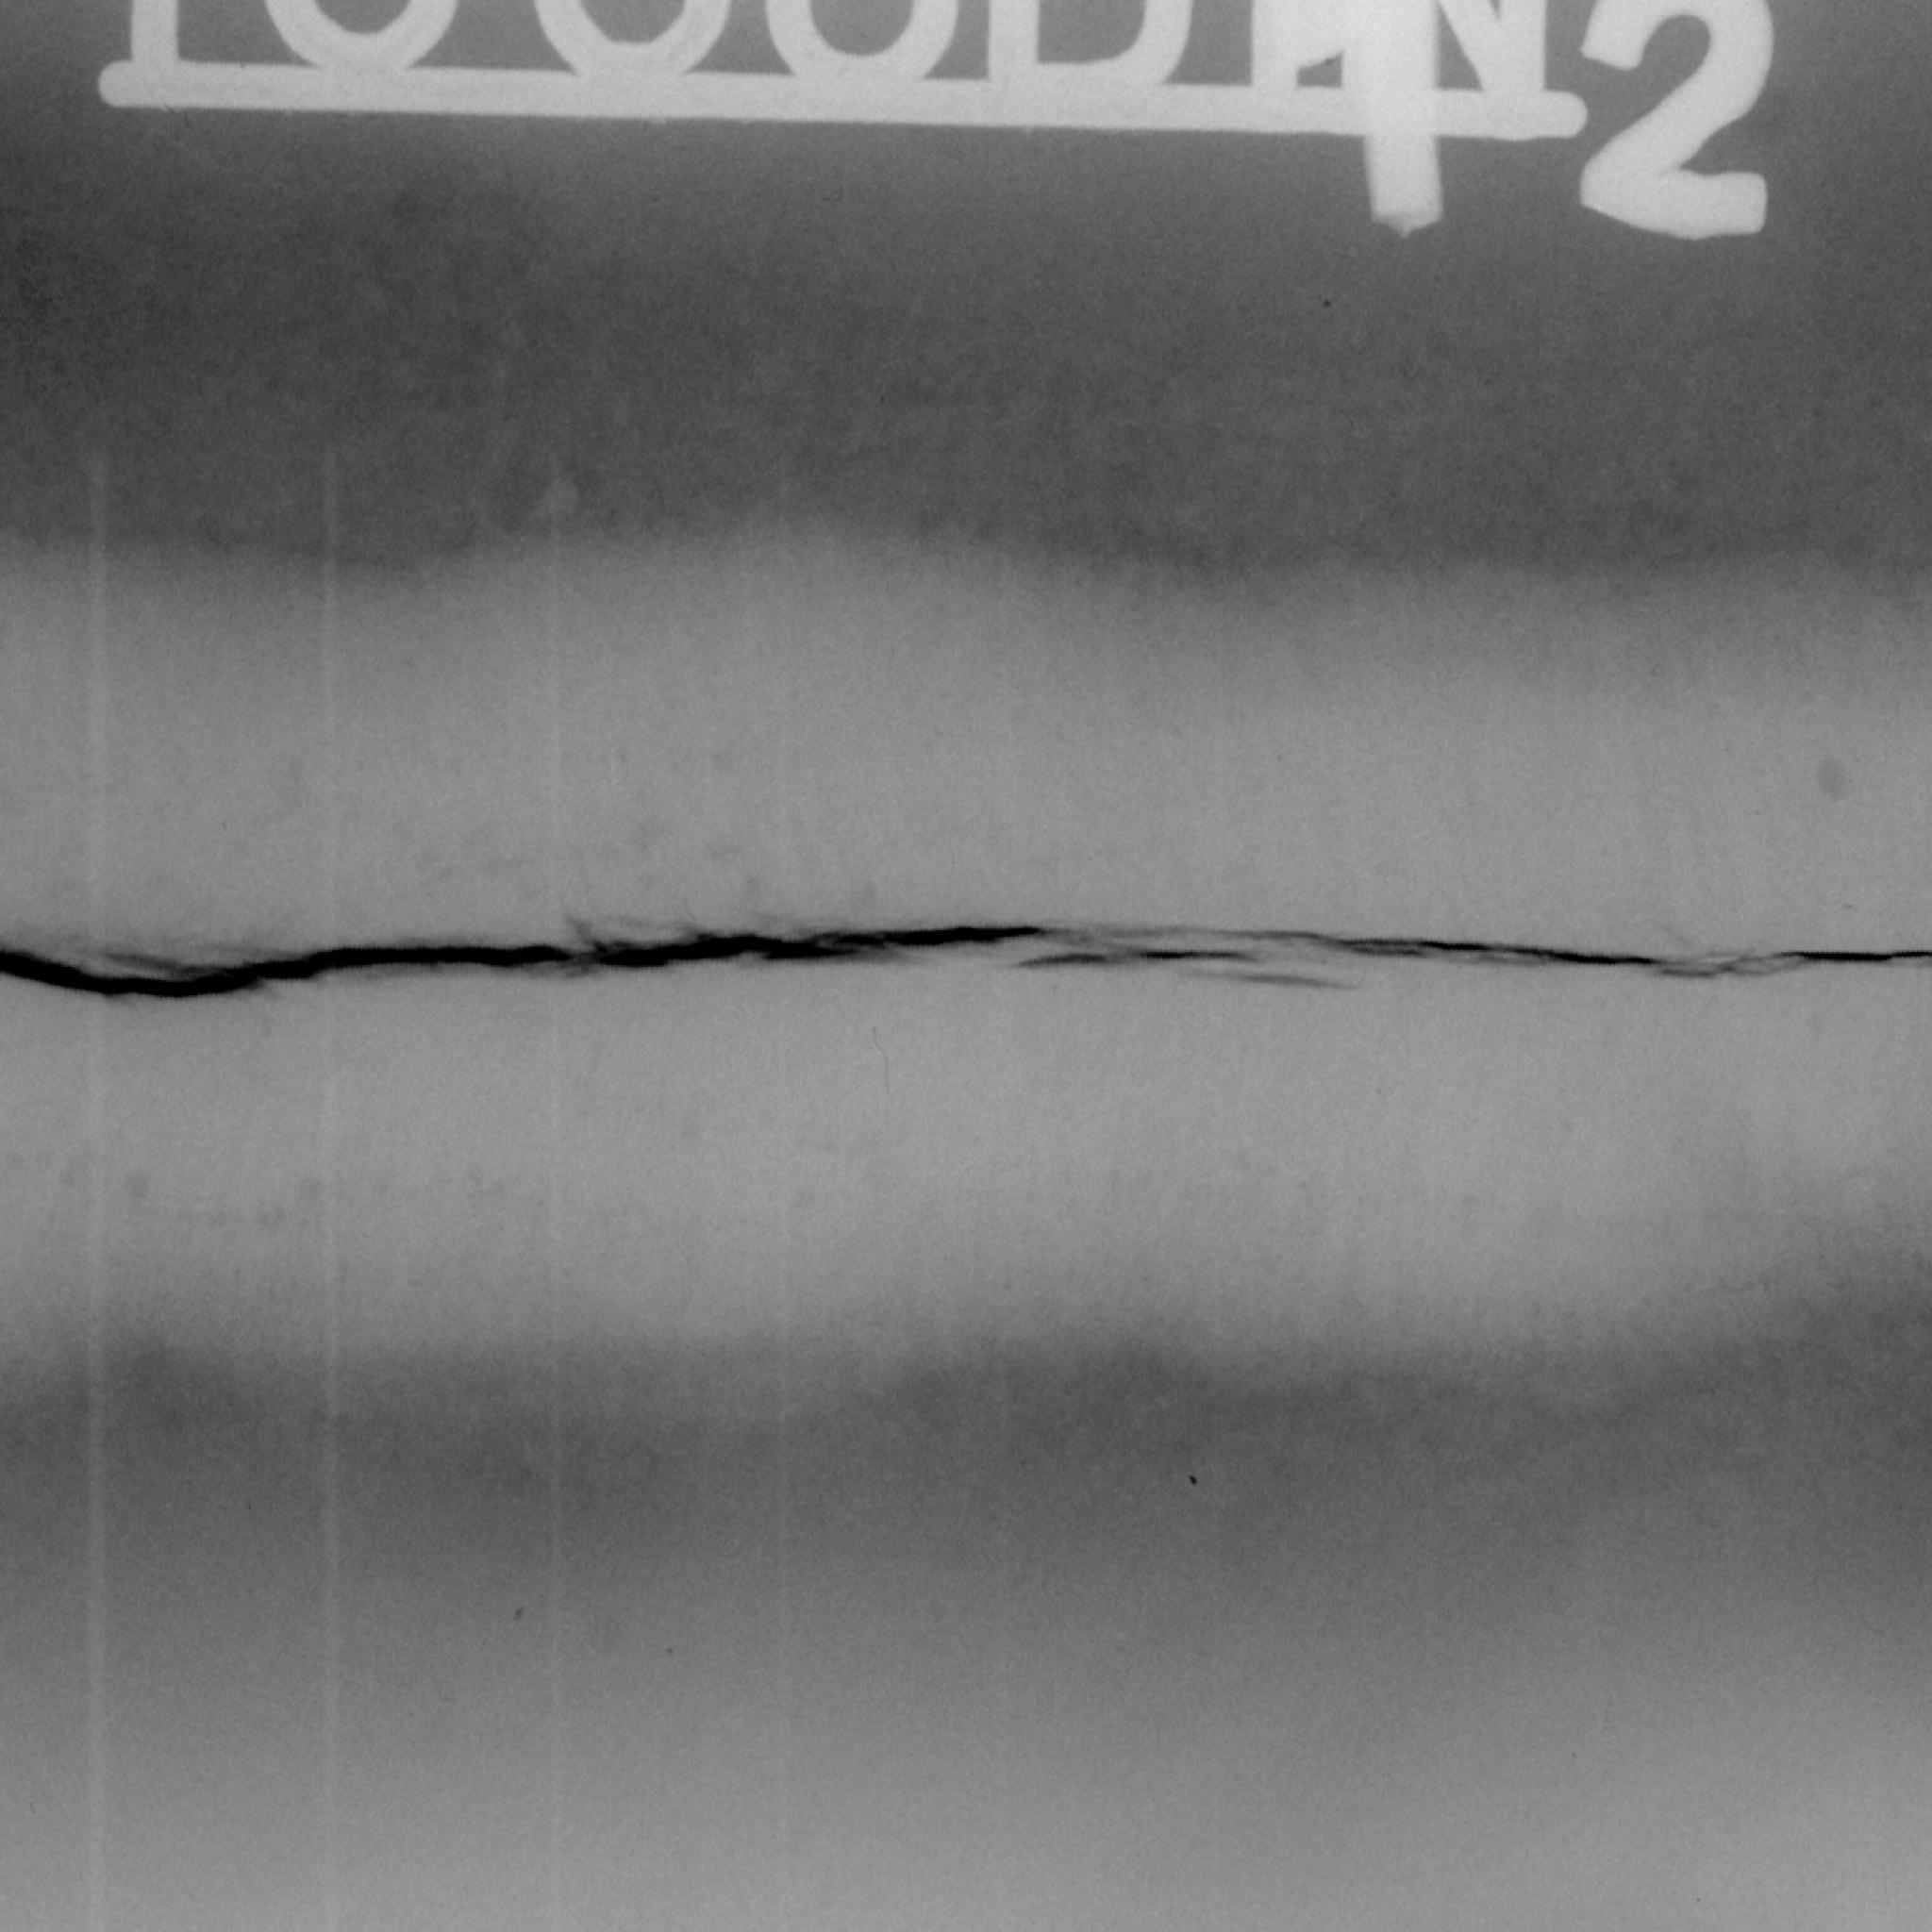TR: (0, 768, 1932, 1152)
